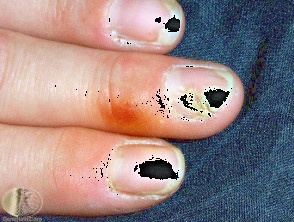Nail_psoriasis: (93, 57, 245, 143), (87, 134, 189, 216), (98, 0, 186, 55)
